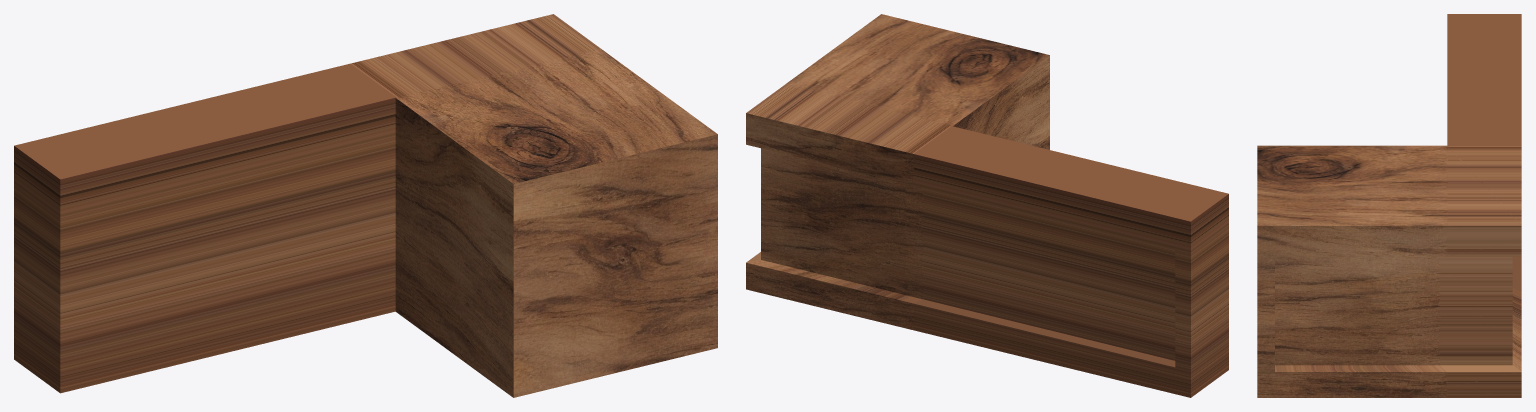
Rendered from reception.glb.
3 renders of one model, left to right at view 1: azimuth 30°, elevation 25°; view 2: azimuth 150°, elevation 25°; view 3: azimuth 270°, elevation 25°, orthographic. The views are drawn at different scales.
Parts seen in each view (by area): view 1: 立方体; view 2: 立方体; view 3: 立方体.
Boxes of the visible parts, x1,y1,x2,y2 form: 立方体: [14, 14, 717, 397]; 立方体: [746, 14, 1228, 397]; 立方体: [1257, 14, 1521, 397].
Bounding box in the file's own units: 5.28 × 2 × 2.78.
Materials: 1 (1 with a texture image).
